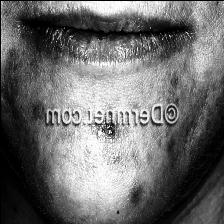Non-Cancerous Skin Condition: (0, 36, 39, 96), (116, 171, 149, 224), (92, 124, 126, 174)
